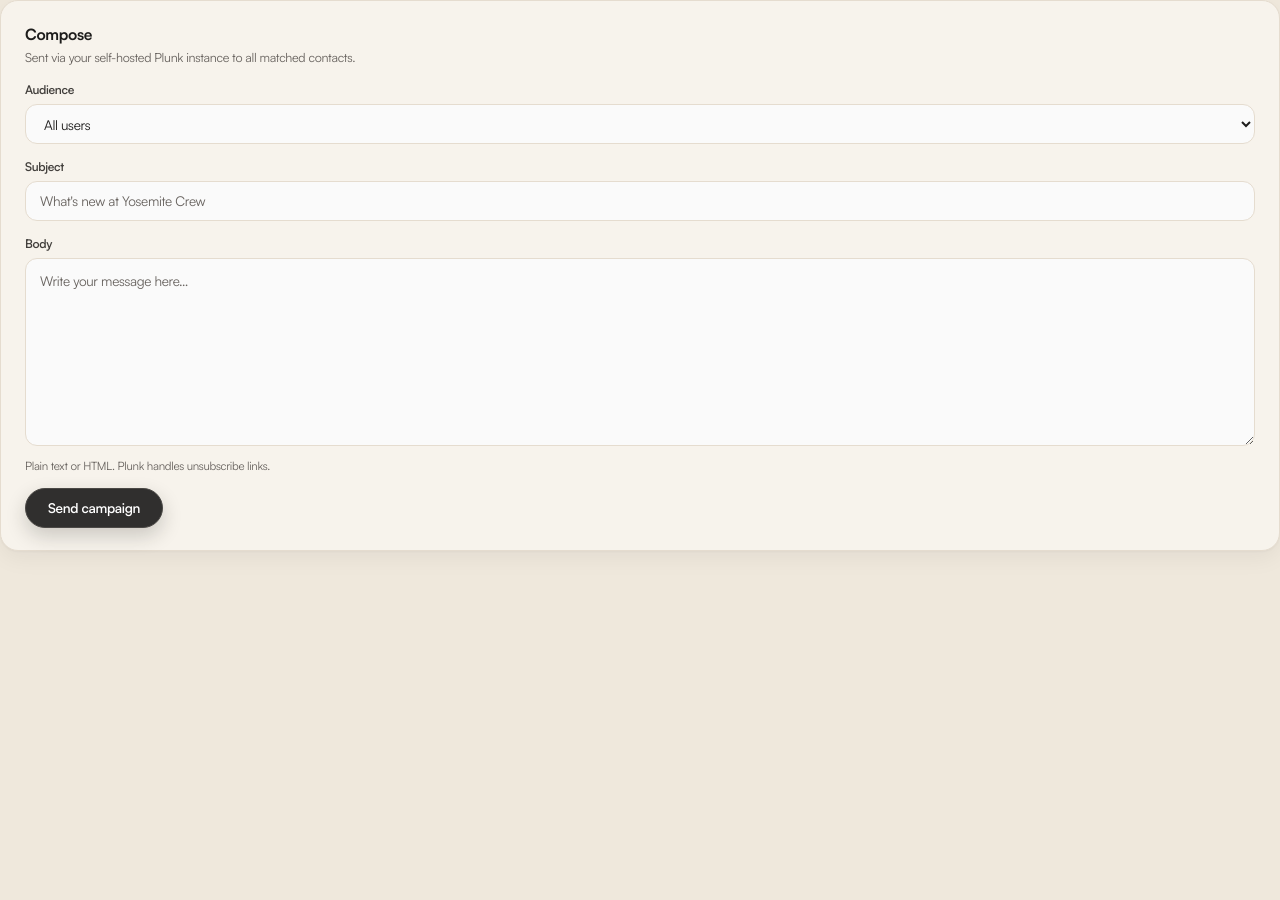
Scenario: ComposeForm › shows the sent count after a successful send
Step 1. Select "Super-admins only" in the dropdown labelled "Audience" → (640, 124), box [25, 104, 1255, 144]
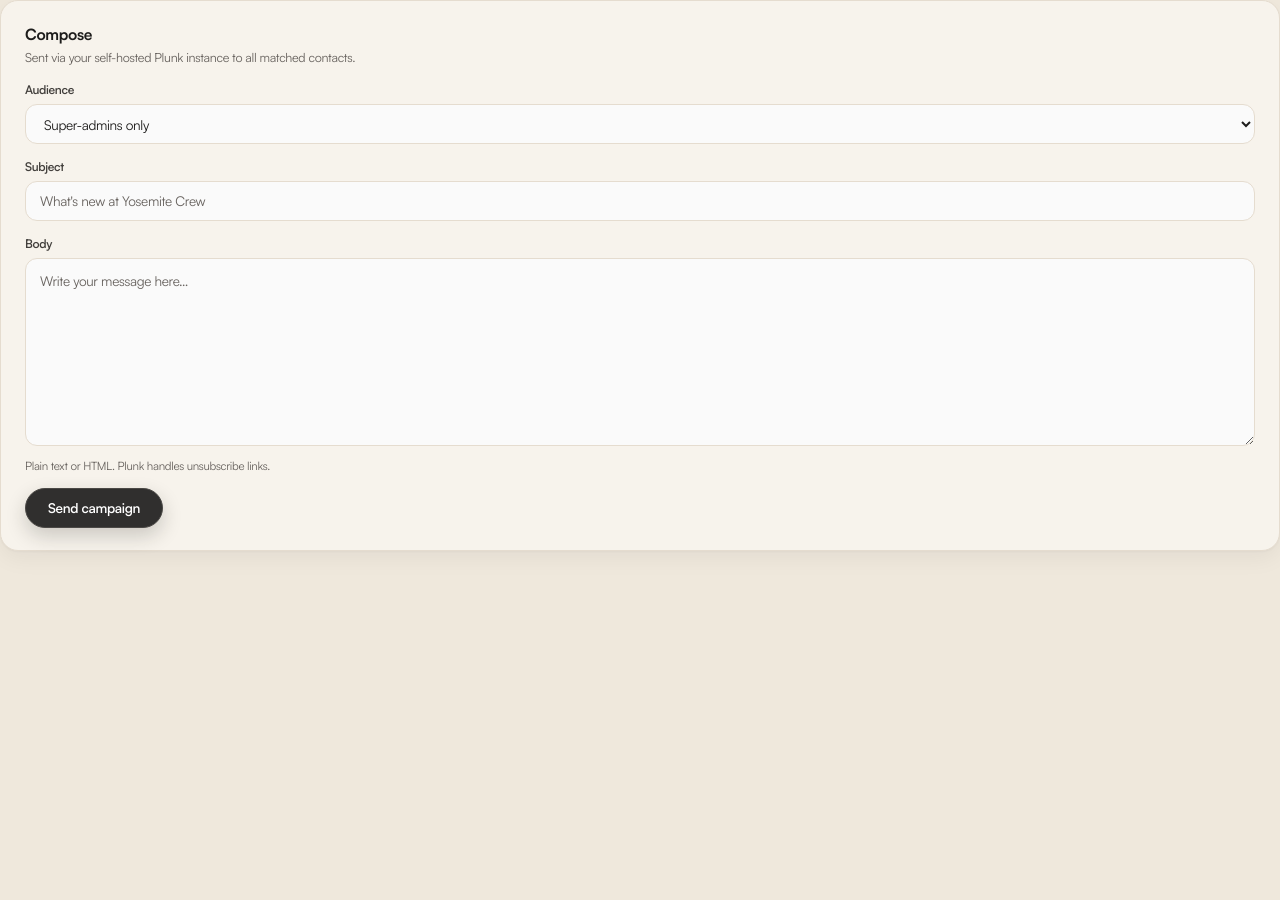
Step 2. Type "Big news" into the field labelled "Subject" → (640, 201), box [25, 181, 1255, 221]
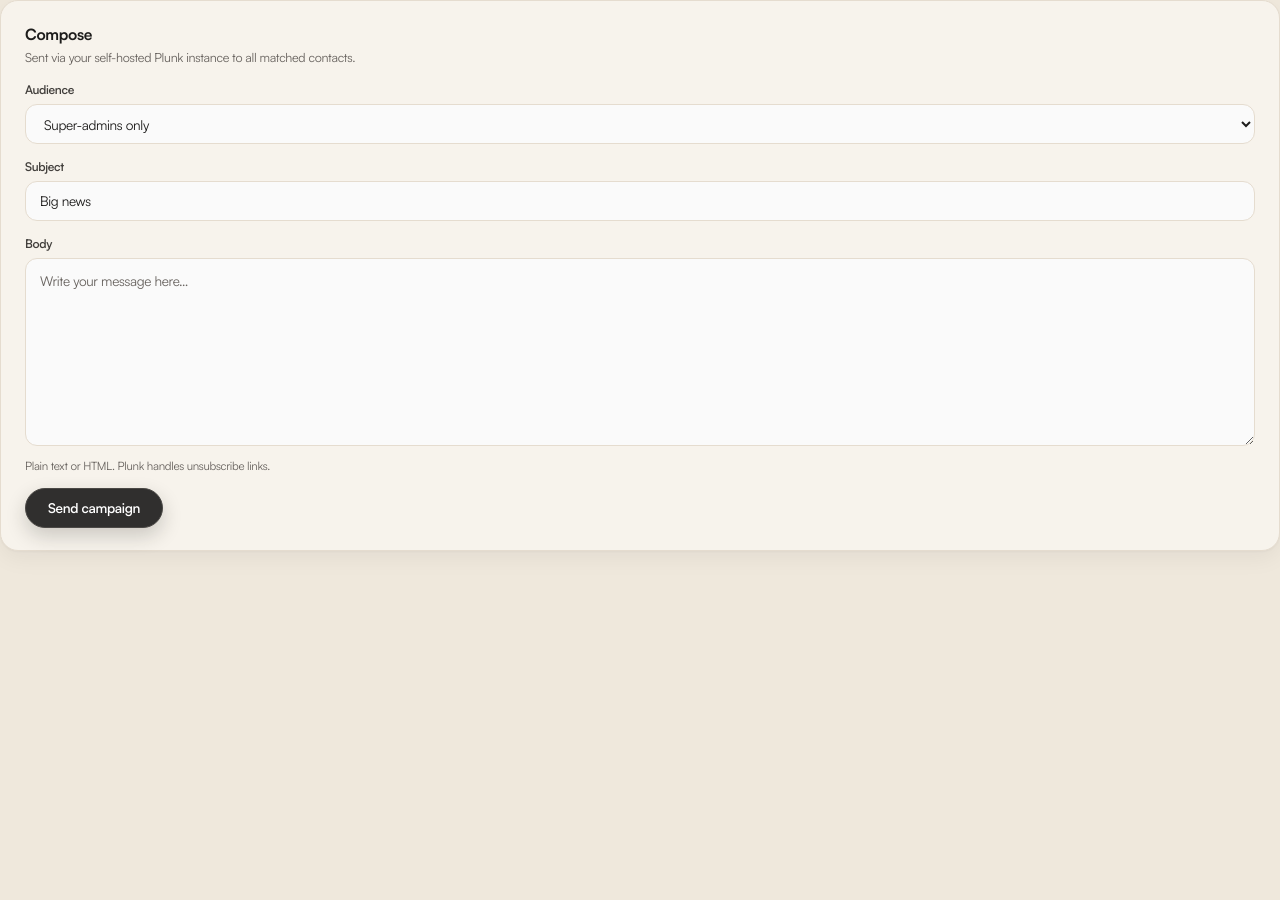
Step 3. Type "A body long enough to pass validation." into the text box labelled "Body" → (640, 352), box [25, 258, 1255, 446]
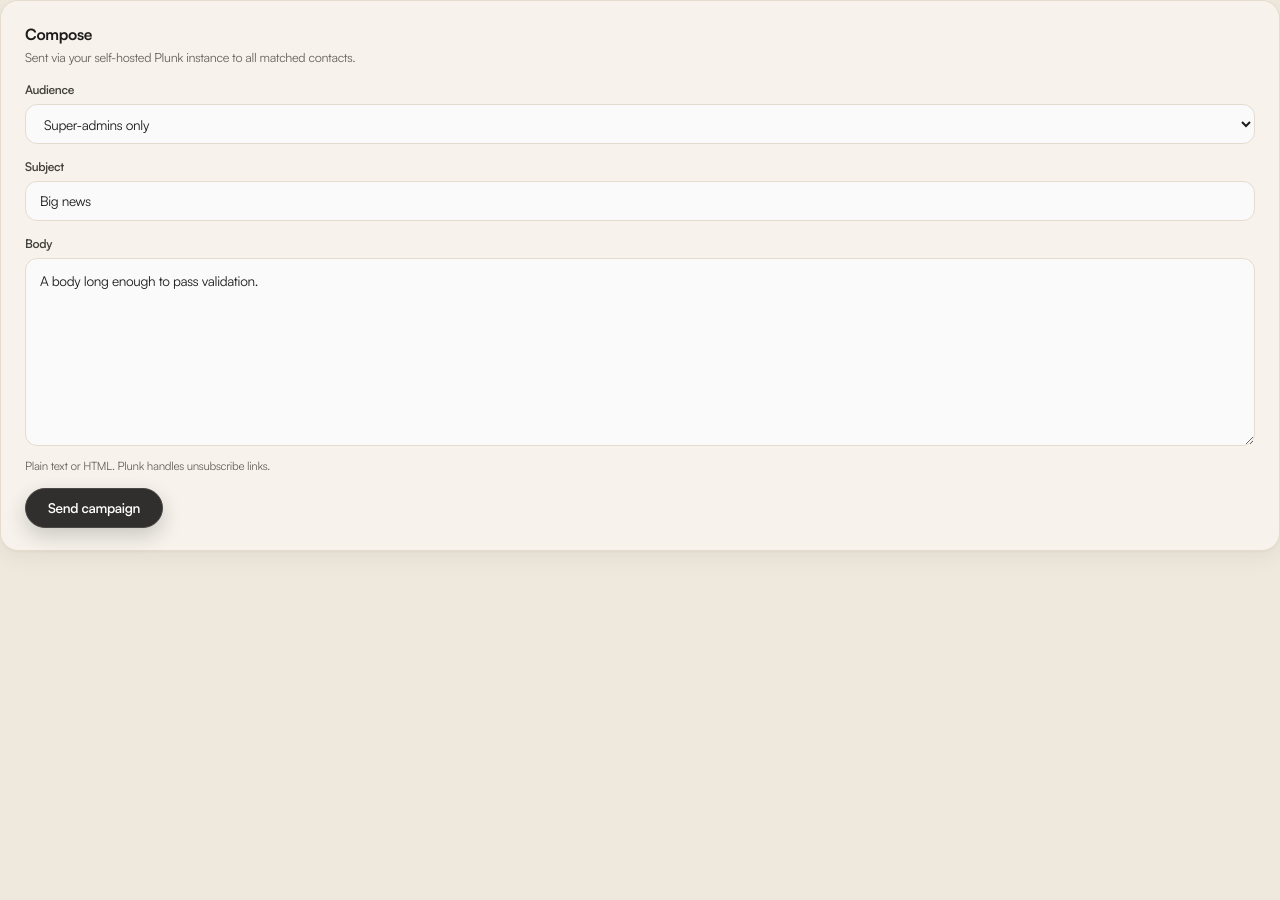
Step 4. Submit the form named "Send campaign", box [25, 81, 1255, 528]
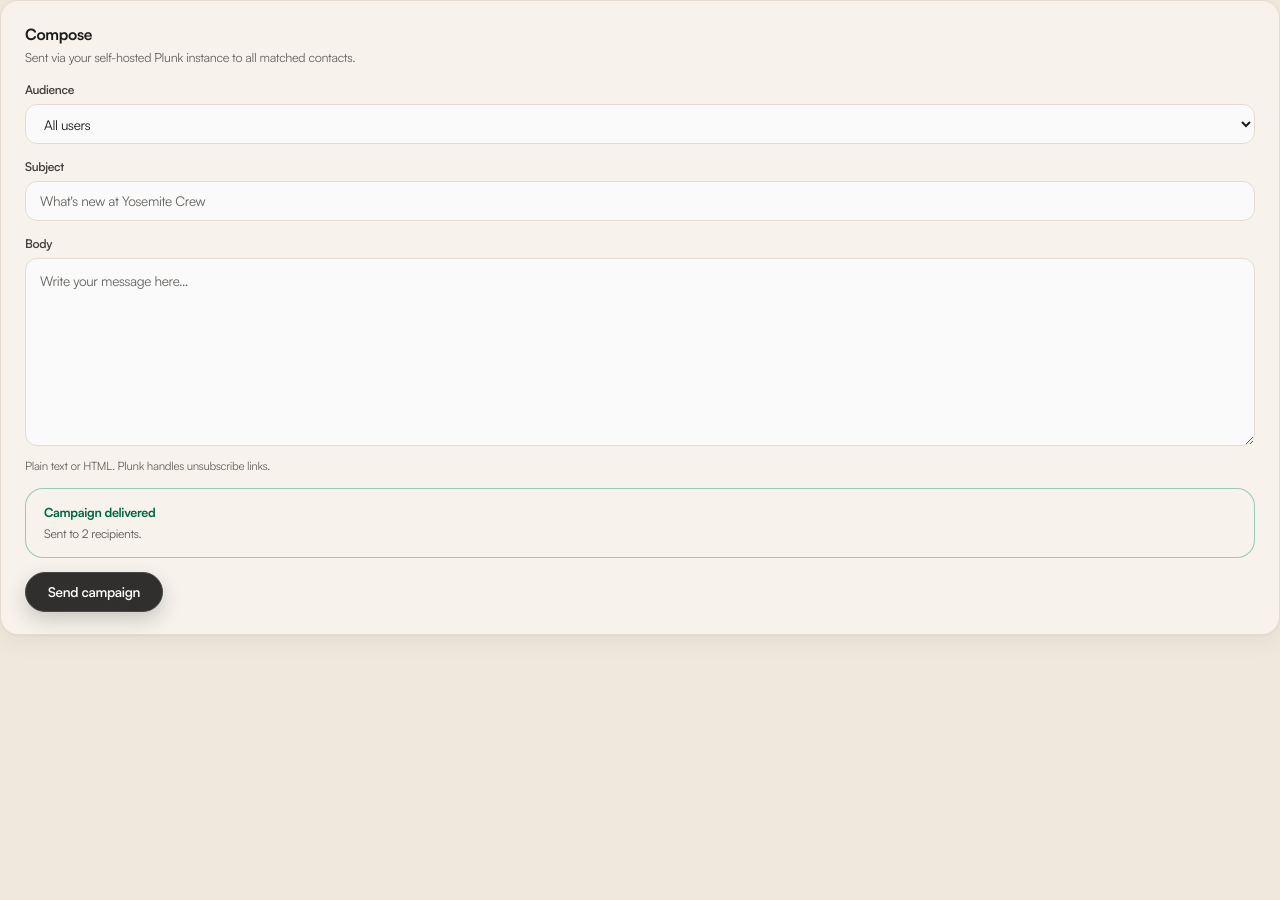
Result: the text "Sent to 2 recipients." is shown at [44, 526, 141, 541]
Result: the field labelled "Subject" is empty at [25, 181, 1255, 221]
Result: the text box labelled "Body" is empty at [25, 258, 1255, 446]
